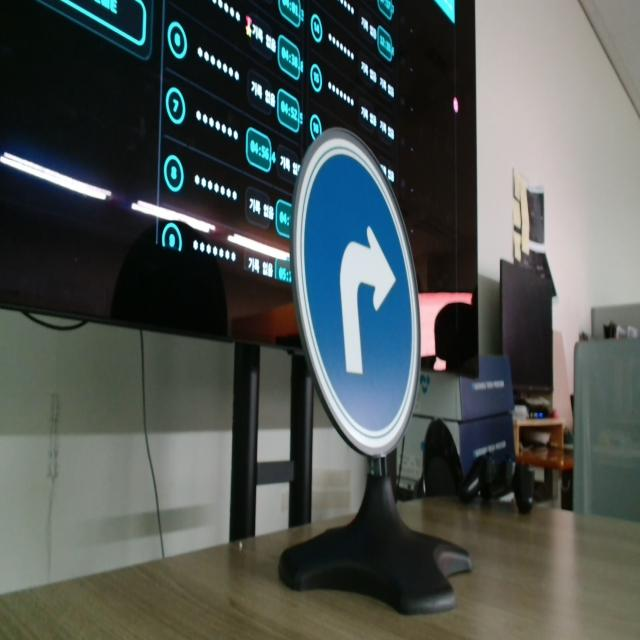right_dierection: (290, 117, 444, 470)
